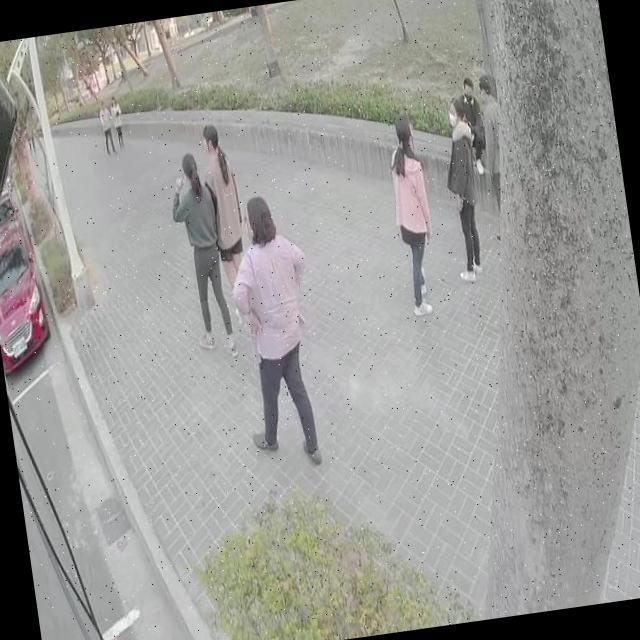person: (221, 190, 333, 470), (166, 150, 240, 363), (383, 110, 444, 318), (437, 96, 492, 279), (198, 120, 247, 264), (479, 75, 513, 208), (458, 76, 492, 178), (96, 102, 114, 154), (111, 96, 127, 148)
